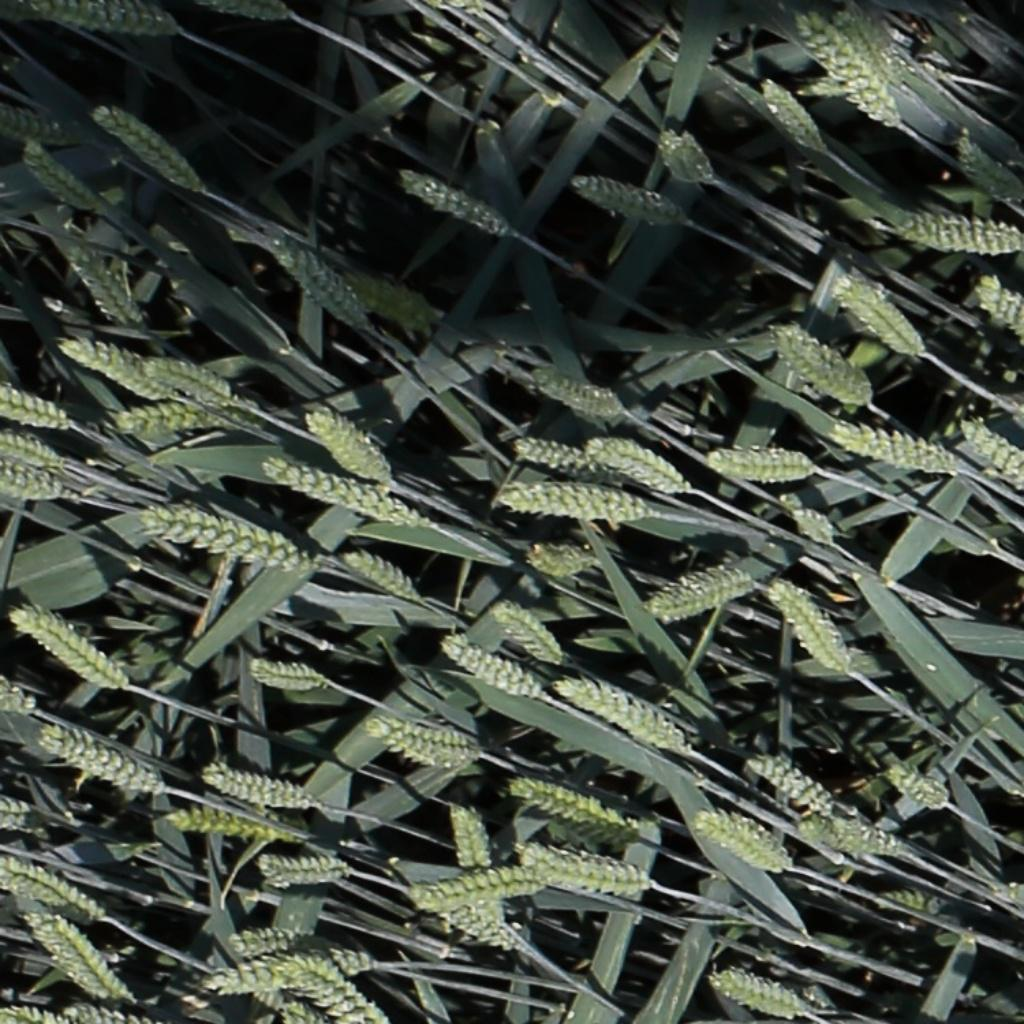0-0: (792, 10, 953, 105), (132, 495, 317, 571), (796, 23, 913, 137), (259, 458, 438, 532), (555, 676, 698, 765), (764, 312, 881, 414), (188, 945, 385, 1005), (88, 99, 199, 189), (10, 606, 125, 690), (25, 906, 128, 998), (767, 569, 855, 675), (835, 277, 935, 362), (395, 167, 515, 237), (271, 237, 364, 327), (60, 234, 149, 325), (507, 780, 639, 841), (360, 711, 482, 777), (36, 729, 157, 794), (56, 331, 166, 397), (687, 805, 798, 869), (645, 565, 752, 631), (283, 959, 391, 1024), (0, 854, 101, 922), (492, 483, 647, 526), (518, 842, 645, 894), (830, 427, 962, 475), (441, 637, 540, 700), (407, 863, 548, 907), (567, 173, 685, 222), (746, 756, 835, 820), (19, 139, 99, 210), (757, 73, 827, 154), (301, 408, 383, 477), (488, 598, 571, 666), (708, 964, 811, 1018), (904, 213, 1024, 259), (253, 844, 363, 893), (800, 820, 918, 865), (961, 417, 1024, 501), (513, 436, 618, 486), (953, 129, 1024, 199), (139, 360, 247, 406), (703, 446, 824, 487), (25, 0, 169, 34), (421, 895, 513, 948), (336, 269, 428, 322), (243, 971, 335, 1024), (199, 765, 307, 808), (153, 803, 274, 841), (113, 396, 231, 434), (591, 443, 681, 490), (446, 801, 498, 879), (870, 884, 963, 927), (339, 550, 417, 600), (531, 370, 621, 413), (1, 462, 85, 508), (973, 275, 1024, 346), (0, 387, 81, 430), (655, 124, 712, 184), (240, 657, 336, 691), (778, 494, 835, 548), (64, 995, 167, 1024), (226, 921, 315, 953), (0, 106, 80, 141), (887, 767, 947, 811), (0, 789, 57, 835), (0, 434, 61, 466), (524, 548, 585, 576), (203, 0, 286, 19)
